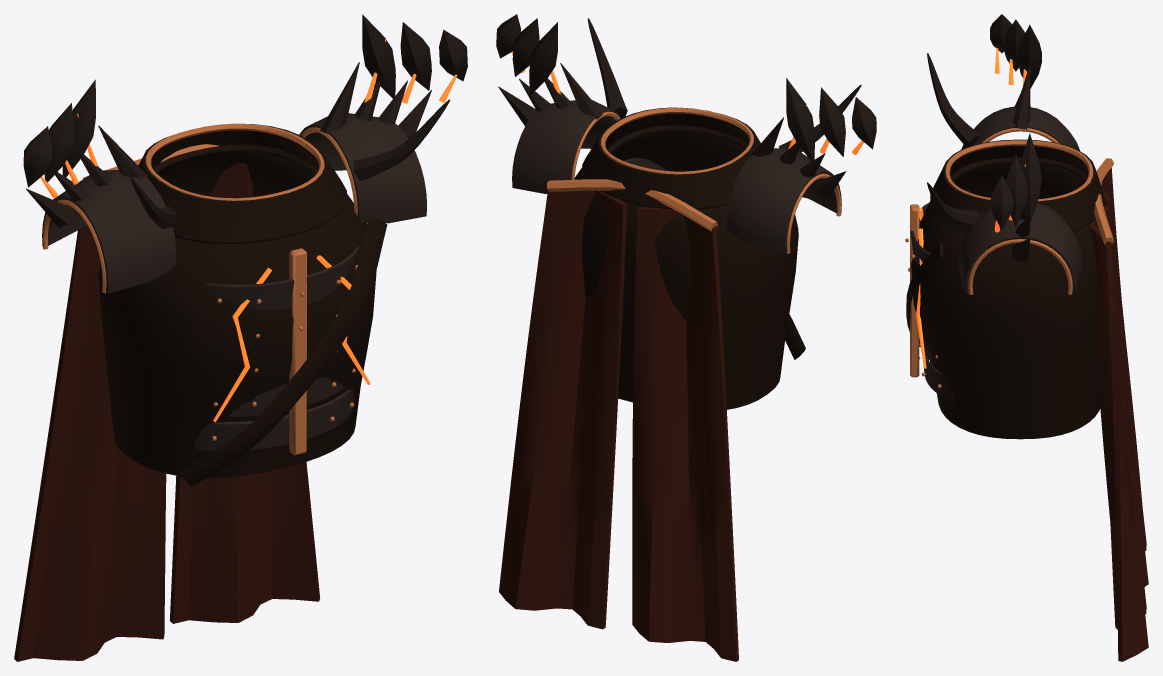
The model's file is asc_cinderbolt_ballista_armor.glb.
The picture shows the model from 3 angles, left to right: view 1: azimuth 30°, elevation 25°; view 2: azimuth 150°, elevation 25°; view 3: azimuth 270°, elevation 25°; orthographic projection. The views are drawn at different scales.
Parts seen in each view (by area): view 1: asc_cinderbolt_ballista_armor, AT_upper_arm_R, AT_upper_arm_L; view 2: asc_cinderbolt_ballista_armor, AT_upper_arm_R, AT_upper_arm_L; view 3: asc_cinderbolt_ballista_armor, AT_upper_arm_L, AT_upper_arm_R.
Boxes of the visible parts, left/top/right/bottom form: asc_cinderbolt_ballista_armor: left=14, top=14, right=467, bottom=661; AT_upper_arm_R: left=26, top=125, right=176, bottom=293; AT_upper_arm_L: left=299, top=62, right=450, bottom=223; asc_cinderbolt_ballista_armor: left=496, top=14, right=876, bottom=661; AT_upper_arm_R: left=727, top=84, right=861, bottom=254; AT_upper_arm_L: left=498, top=18, right=627, bottom=193; asc_cinderbolt_ballista_armor: left=905, top=14, right=1148, bottom=661; AT_upper_arm_L: left=927, top=182, right=1082, bottom=294; AT_upper_arm_R: left=927, top=53, right=1079, bottom=150.
Bounding box in the file's own units: 0.9187 × 1.24 × 0.5243.
